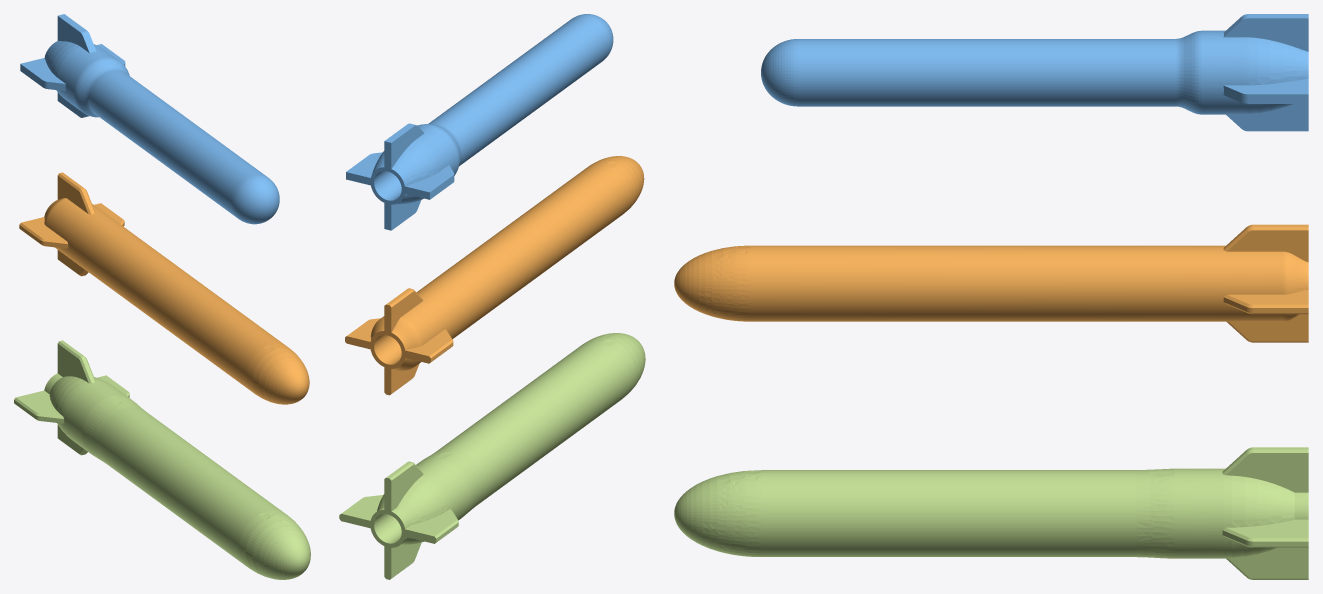
File: solo.glb
3 views of the same model, side by side, from view 1: azimuth 30°, elevation 25°; view 2: azimuth 150°, elevation 25°; view 3: azimuth 270°, elevation 25° (orthographic). The views are drawn at different scales.
Visible parts, largest first — view 1: solo__Torpedo_C, solo__Torpedo_D18, solo__Torpedo_B; view 2: solo__Torpedo_C, solo__Torpedo_D18, solo__Torpedo_B; view 3: solo__Torpedo_C, solo__Torpedo_D18, solo__Torpedo_B.
Boxes of the visible parts, x1=… form: solo__Torpedo_C: x1=14, y1=340, x2=310, y2=579; solo__Torpedo_D18: x1=19, y1=172, x2=309, y2=404; solo__Torpedo_B: x1=20, y1=14, x2=279, y2=224; solo__Torpedo_C: x1=339, y1=333, x2=645, y2=579; solo__Torpedo_D18: x1=345, y1=156, x2=644, y2=395; solo__Torpedo_B: x1=346, y1=14, x2=613, y2=230; solo__Torpedo_C: x1=674, y1=447, x2=1308, y2=579; solo__Torpedo_D18: x1=674, y1=224, x2=1308, y2=342; solo__Torpedo_B: x1=761, y1=14, x2=1308, y2=131.
Size of the model in its own units: 34 by 147 by 150.
